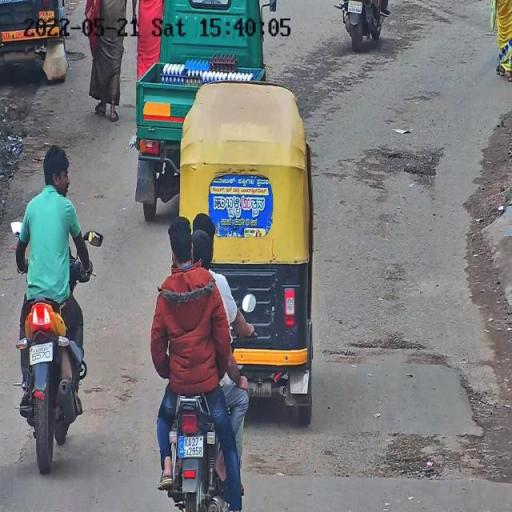tripple riding: (150, 211, 255, 391)
